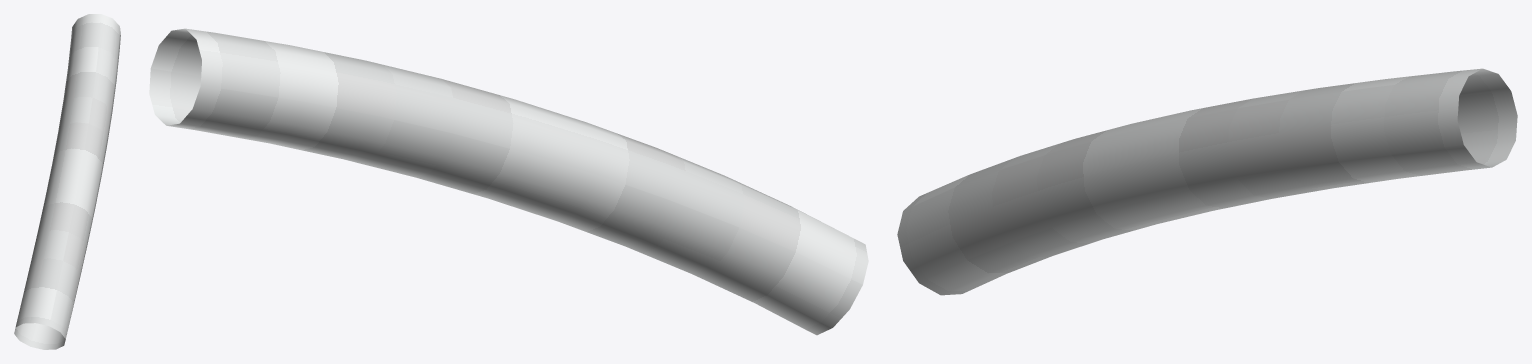
File: luminairearm_vannuystriple_c6.obj
3 views of the same model, side by side, from view 1: azimuth 30°, elevation 25°; view 2: azimuth 150°, elevation 25°; view 3: azimuth 270°, elevation 25° (orthographic). The views are drawn at different scales.
Visible parts, largest first — view 1: luminairearm_vannuystriple_c6; view 2: luminairearm_vannuystriple_c6; view 3: luminairearm_vannuystriple_c6.
Part boxes in pixels (x1,y1,x2,y2): luminairearm_vannuystriple_c6: [14, 14, 120, 349]; luminairearm_vannuystriple_c6: [149, 28, 868, 335]; luminairearm_vannuystriple_c6: [897, 68, 1517, 295].
Bounding box in the file's own units: 0.9744 × 0.8011 × 1.13.
